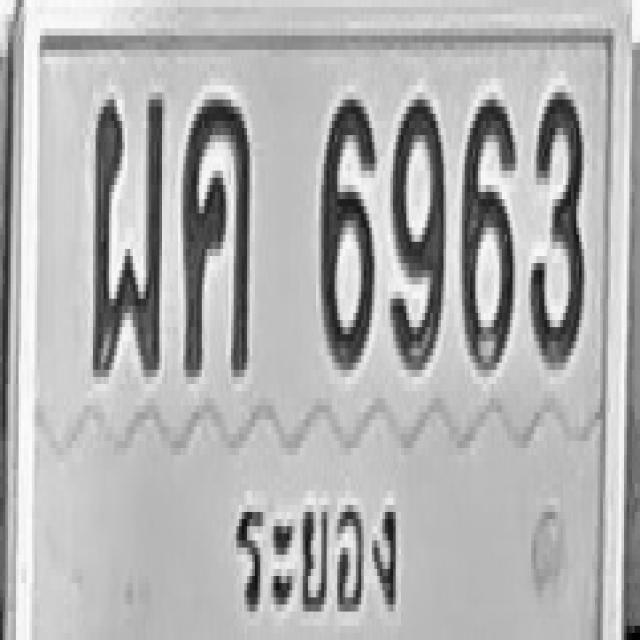13KhorKhwai: (182, 92, 251, 377)
3: (528, 85, 584, 363)
37PhorPhueng: (92, 92, 163, 377)
6: (318, 92, 374, 370), (461, 92, 514, 370)
9: (391, 92, 444, 370)
Rayong: (228, 474, 408, 631)
